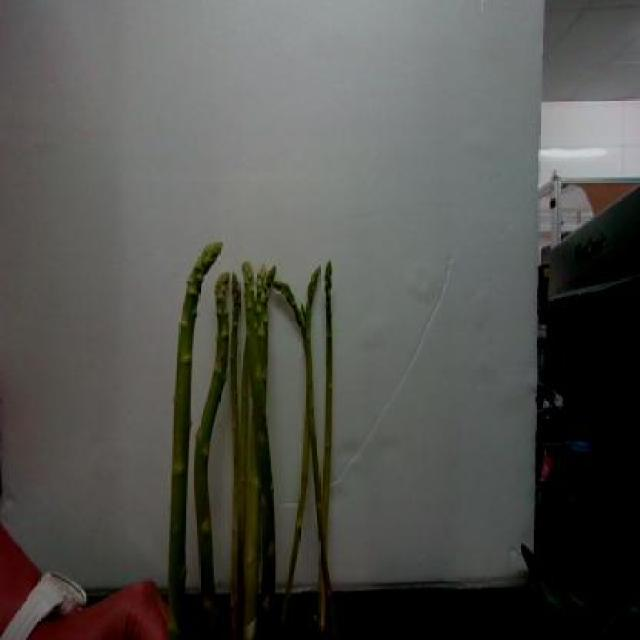aspargus: (170, 242, 222, 622), (194, 271, 233, 640), (315, 263, 334, 629)
